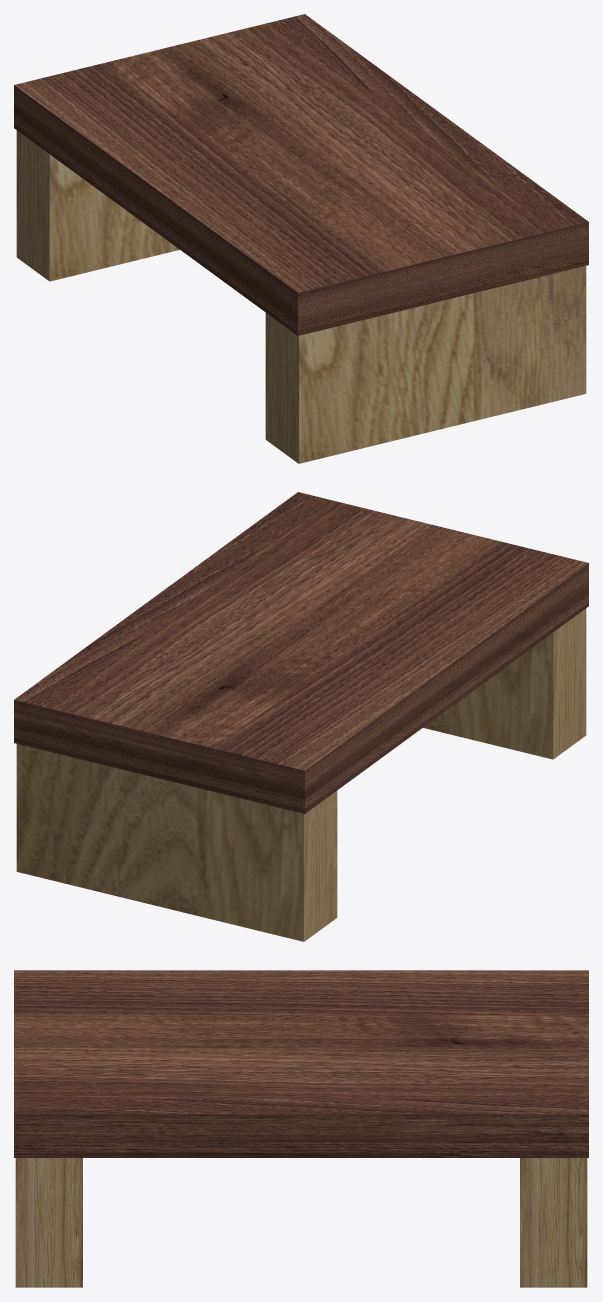
The model's file is lavochka.obj.
The picture shows the model from 3 angles, top to bottom: view 1: azimuth 30°, elevation 25°; view 2: azimuth 150°, elevation 25°; view 3: azimuth 270°, elevation 25°; orthographic projection.
Visible parts, largest first — view 1: Cube.001, Cube, Cube.002; view 2: Cube.001, Cube.002, Cube; view 3: Cube.001, Cube, Cube.002.
Boxes of the visible parts, box(x1,y1,x2,y2) form: Cube.001: box(14, 14, 588, 335); Cube: box(265, 266, 586, 463); Cube.002: box(16, 130, 179, 281); Cube.001: box(14, 492, 588, 813); Cube.002: box(16, 744, 337, 941); Cube: box(423, 608, 586, 759); Cube.001: box(14, 970, 588, 1157); Cube: box(15, 1158, 82, 1287); Cube.002: box(520, 1158, 587, 1287).
Size of the model in its own units: 2.02 by 1.14 by 3.42.
